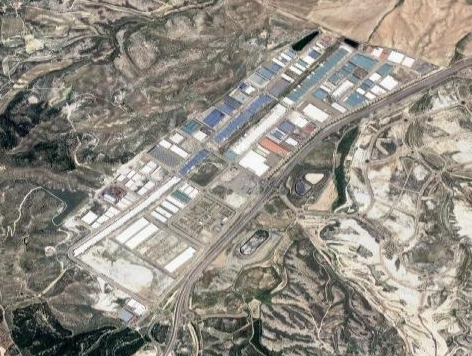industrial: (108, 44, 358, 265)
motorway: (231, 116, 351, 237), (156, 221, 236, 356), (350, 48, 472, 127)
